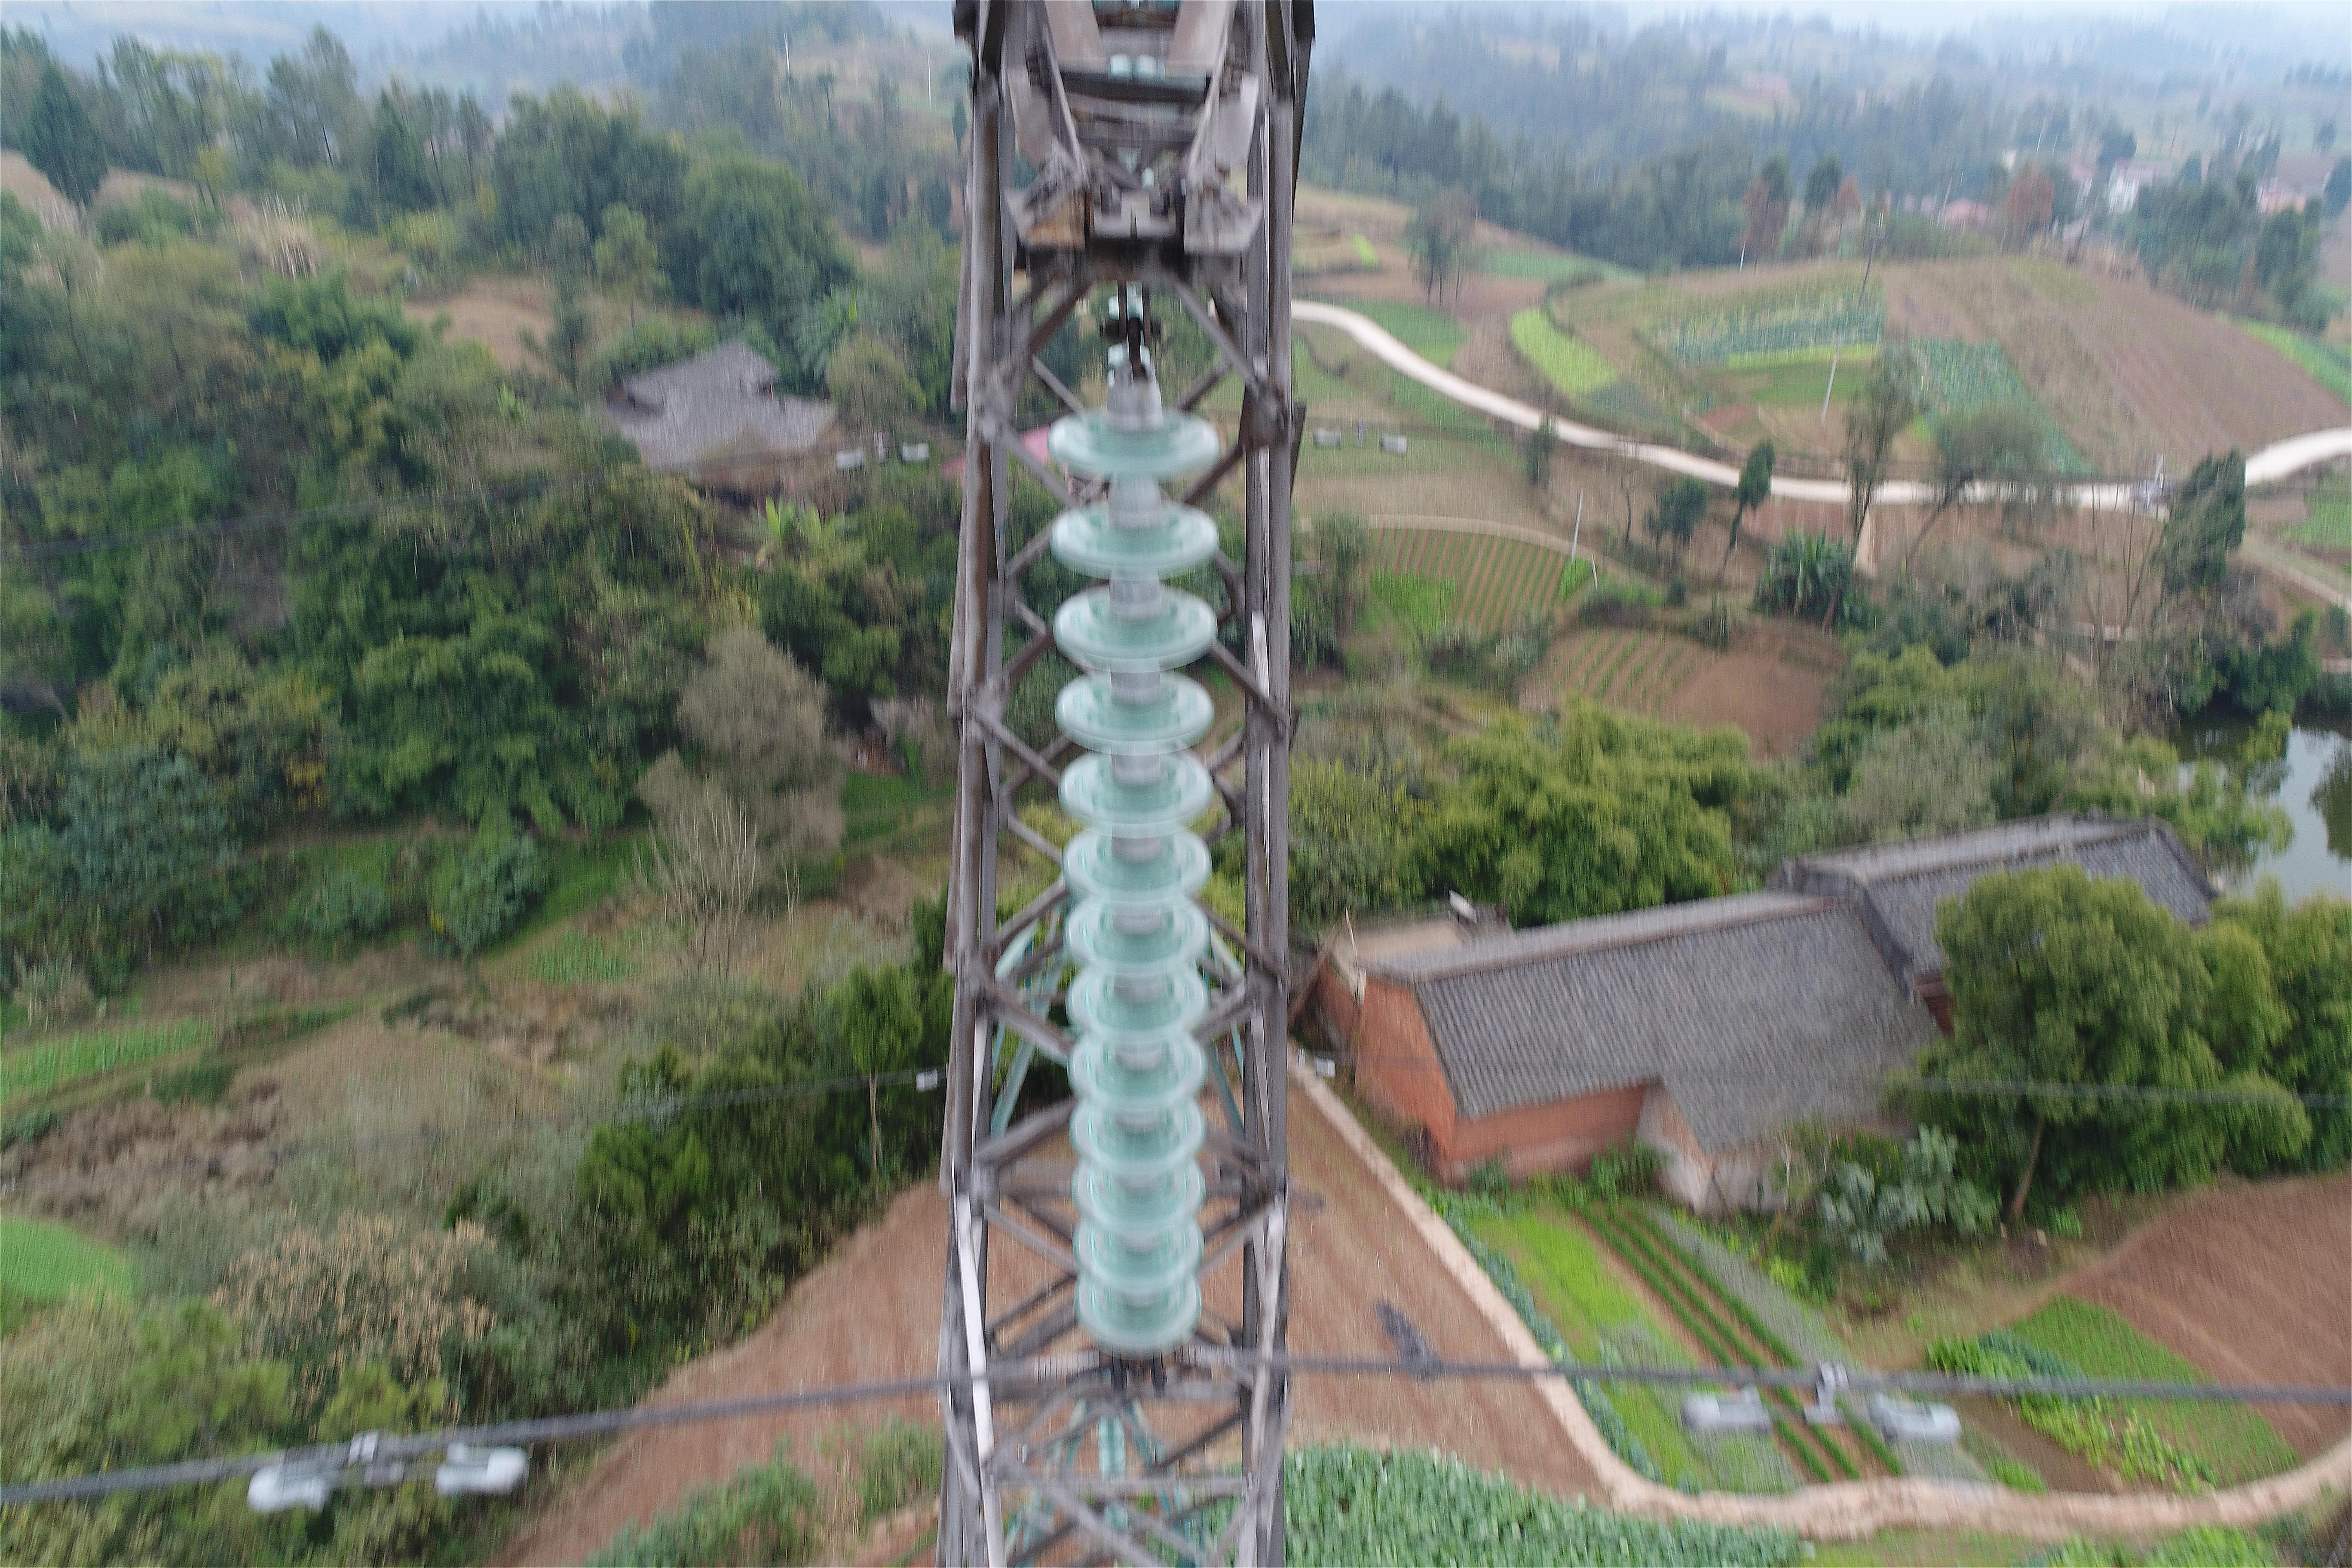insultor3: (997, 374, 1256, 1361)
